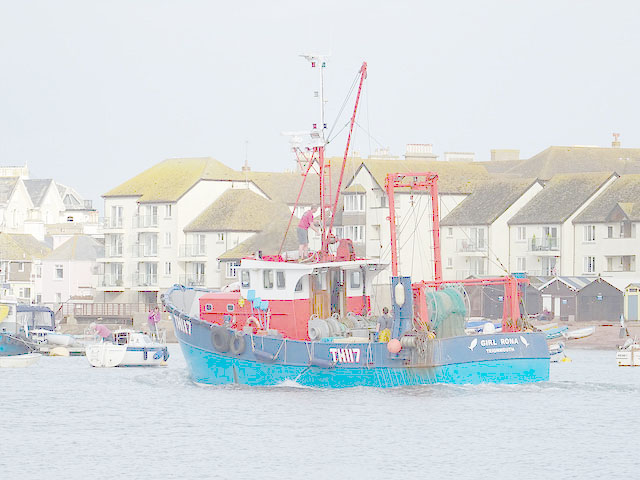fishing_boat: (164, 108, 558, 394)
